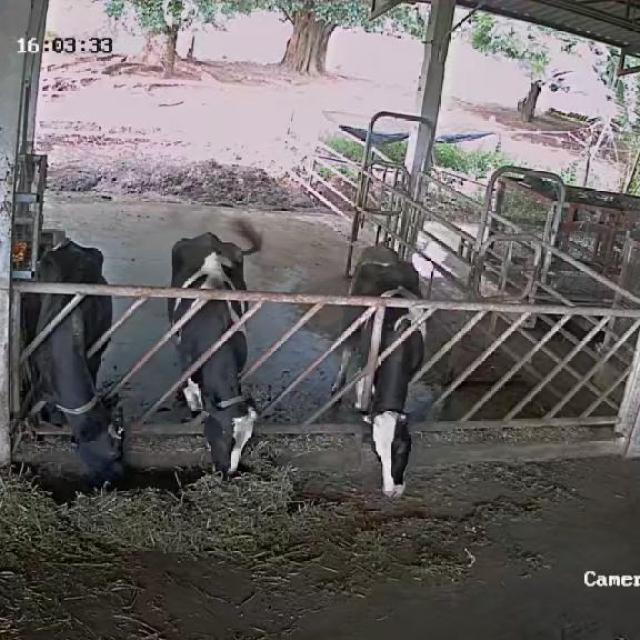feeding: (22, 238, 140, 491), (168, 230, 268, 486), (337, 240, 430, 506)
